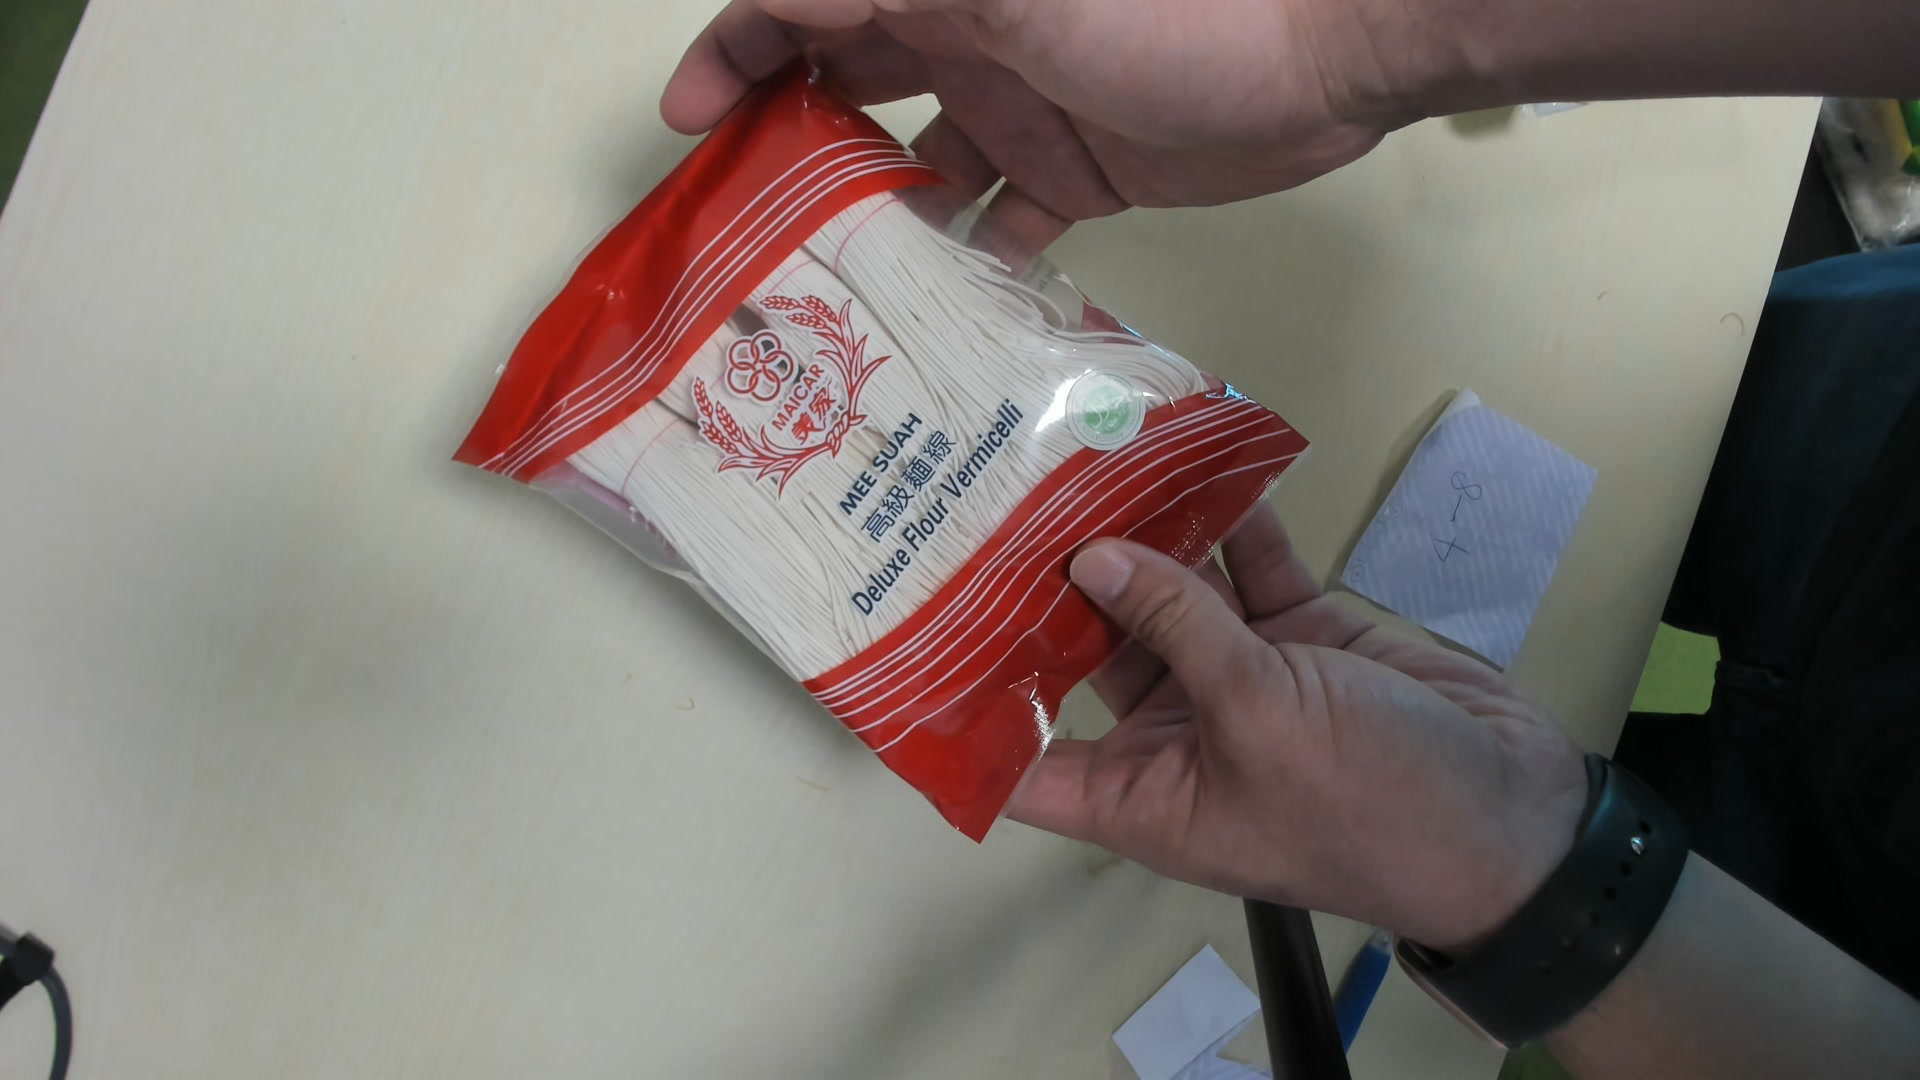BeeHoonVermicelli_100-199g_Halal_NonHealthy: (448, 53, 1315, 845)
